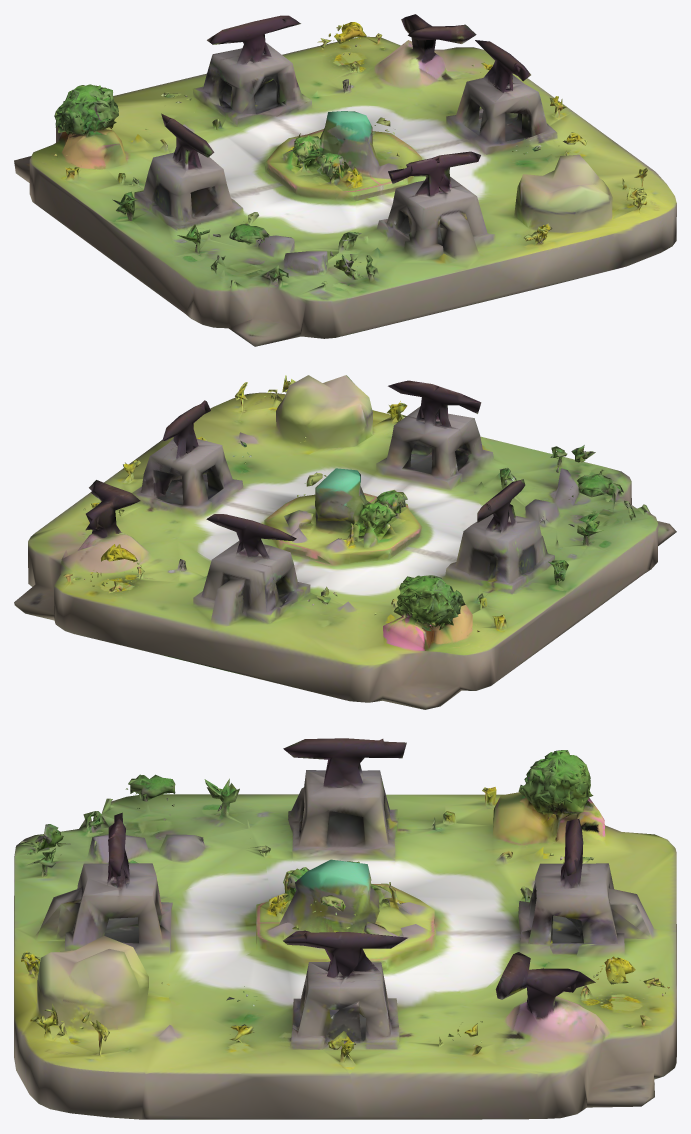
Rendered from dm_blobjungle.glb.
The picture shows the model from 3 angles, top to bottom: view 1: azimuth 30°, elevation 25°; view 2: azimuth 150°, elevation 25°; view 3: azimuth 270°, elevation 25°; orthographic projection. The views are drawn at different scales.
Bounding box in the file's own units: 2 × 0.4881 × 2.
Materials: 1 (1 with a texture image).
